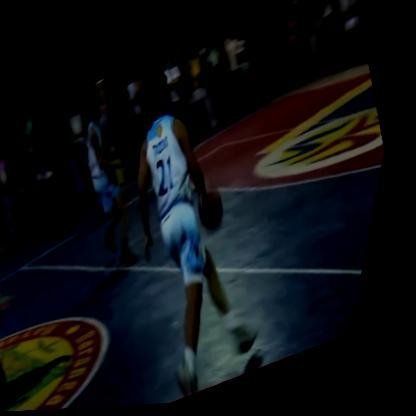basketball: (192, 174, 247, 239)
